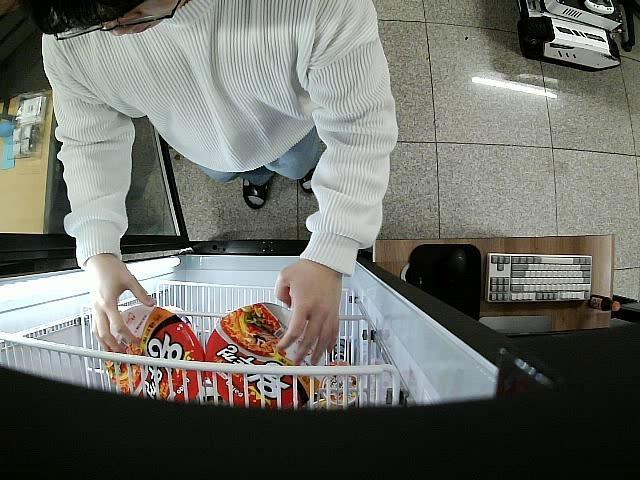10_wangTtukkeong: (208, 302, 329, 412), (104, 306, 205, 404)
